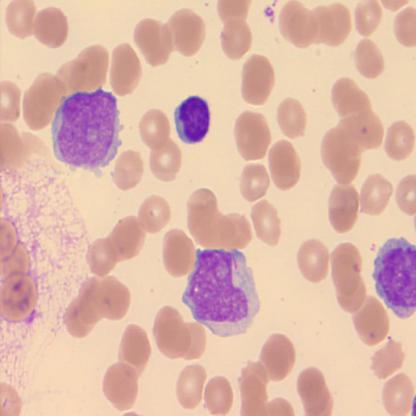Blast: (181, 241, 262, 340), (48, 85, 126, 179), (172, 93, 214, 147)
